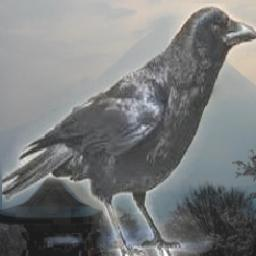Crow: (1, 3, 256, 256)
